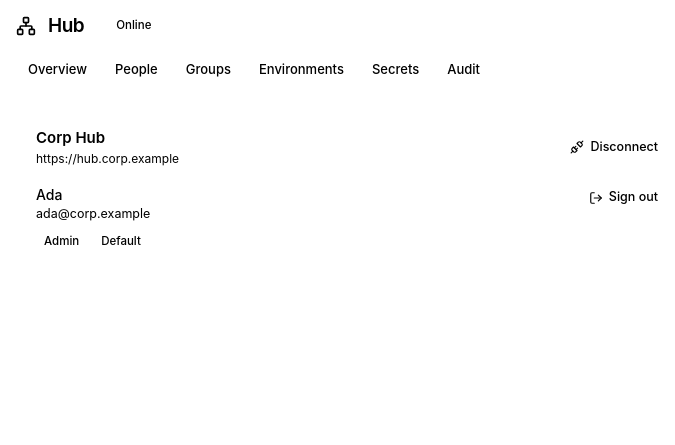
hub admin panels › deploy key copy puts the public key on the clipboard
Later steps or results of the test are not shown.
Click the tab "Environments" at [301, 70], box [247, 52, 356, 88]
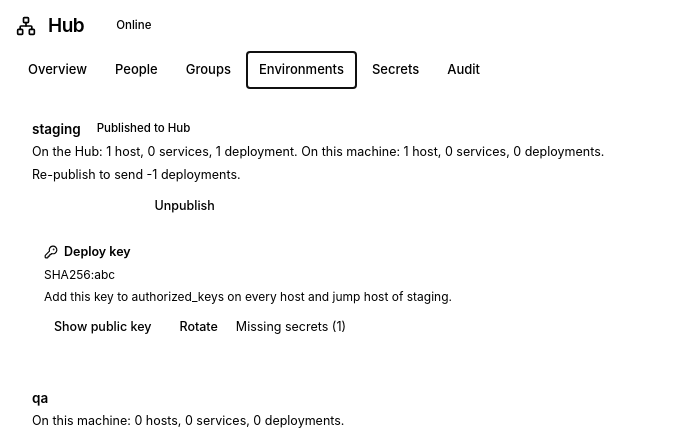
Expected: the text "Add this key to" shows "authorized_keys on every host and jump host of staging", [44, 288, 452, 304]
Expected: the text "SHA256:abc" is shown, [44, 266, 115, 282]
